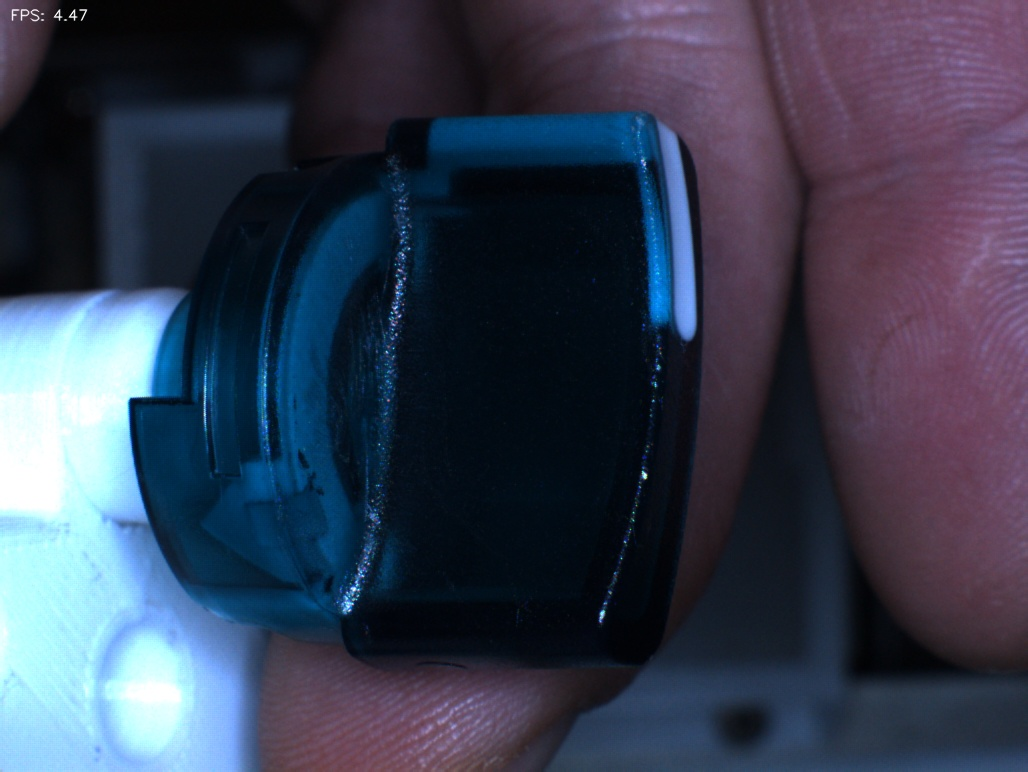Givrage: (413, 400, 495, 568), (347, 308, 402, 474)
